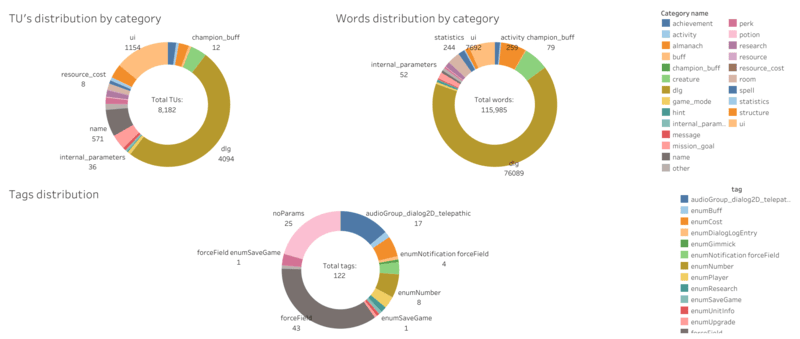

What the dashboard file says about the page in this screenshot:
{"tool":"tableau","page":{"name":"Categories & tags distribution","canvas":[1000,1000],"units":"permille","ordinal":0},"visuals":[{"type":"worksheet","title":"TU's distribution by category","mark":"Pie","rows":["Calculation_1163899077726212097","Calculation_1163899077726212097"],"box":[4.8,9.9,420.3,521.5]},{"type":"worksheet","title":"Words distribution by category","mark":"Pie","rows":["Calculation_1163899077726212097","Calculation_1163899077726212097"],"box":[425.2,9.9,420.3,521.5]},{"type":"legend","title":"Words distribution by category","param":"[federated.0x1b8ga13vp1jb1fwskvd0o3y9lx].[none:category:nk]","box":[845.5,9.9,149.7,521.5]},{"type":"worksheet","title":"Tags distribution","mark":"Pie","rows":["Calculation_1163899077726212097","Calculation_1163899077726212097"],"box":[4.8,531.4,840.6,458.8]},{"type":"legend","title":"Tags distribution","param":"[federated.0x1b8ga13vp1jb1fwskvd0o3y9lx].[none:tag:nk]","box":[845.4,531.4,149.8,458.8]}]}

Visuals, with their boxes on the dashboard's canvas, which has no fixed pixel size, in thousandths of its width and height (x1, y1, x2, y2). These are canvas units, not pixel positions in the 800x339 screenshot, which may show the page scaled, cropped or inside an application window:
"TU's distribution by category" worksheet (Pie marks): [5, 10, 425, 531]
"Words distribution by category" worksheet (Pie marks): [425, 10, 846, 531]
"Words distribution by category" legend: [846, 10, 995, 531]
"Tags distribution" worksheet (Pie marks): [5, 531, 845, 990]
"Tags distribution" legend: [845, 531, 995, 990]
